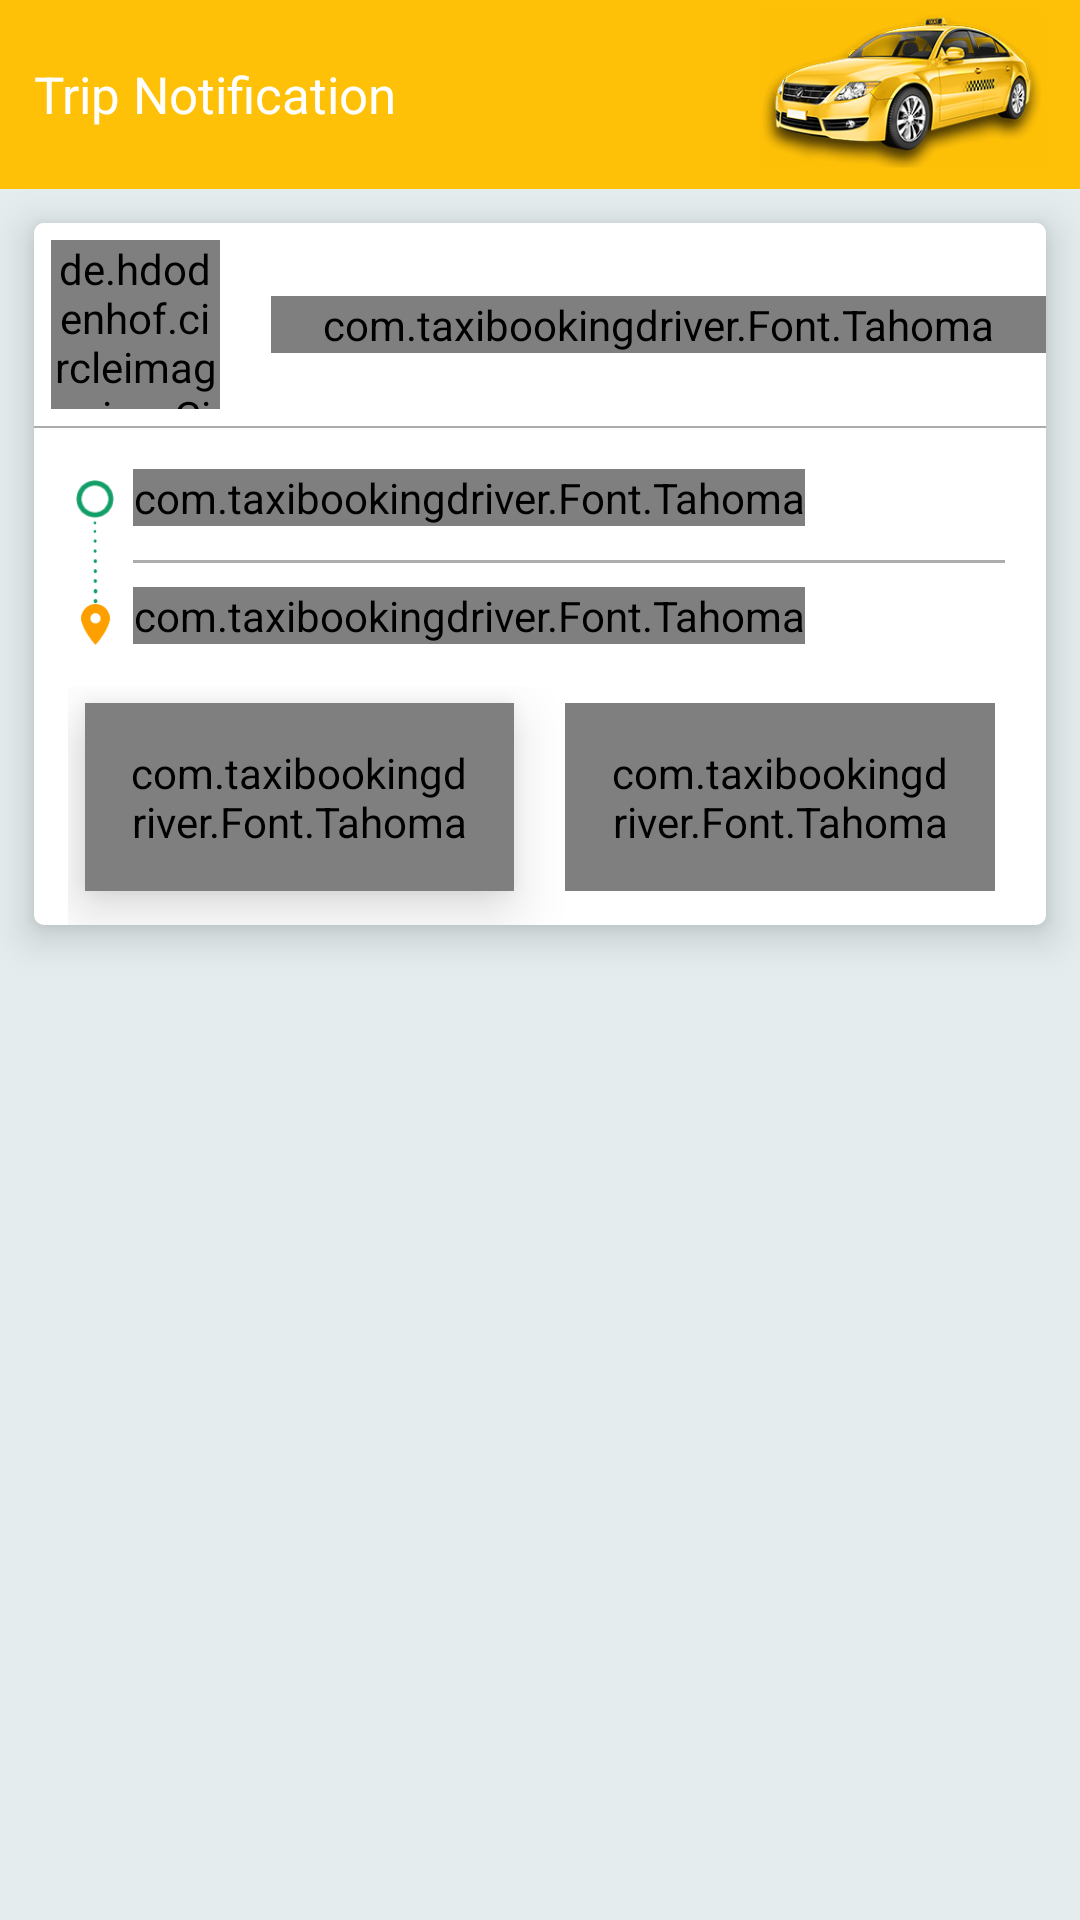

Named icons in this screenshot (1080 × 1920) and their centers, (x,y):
from: (95,499)
